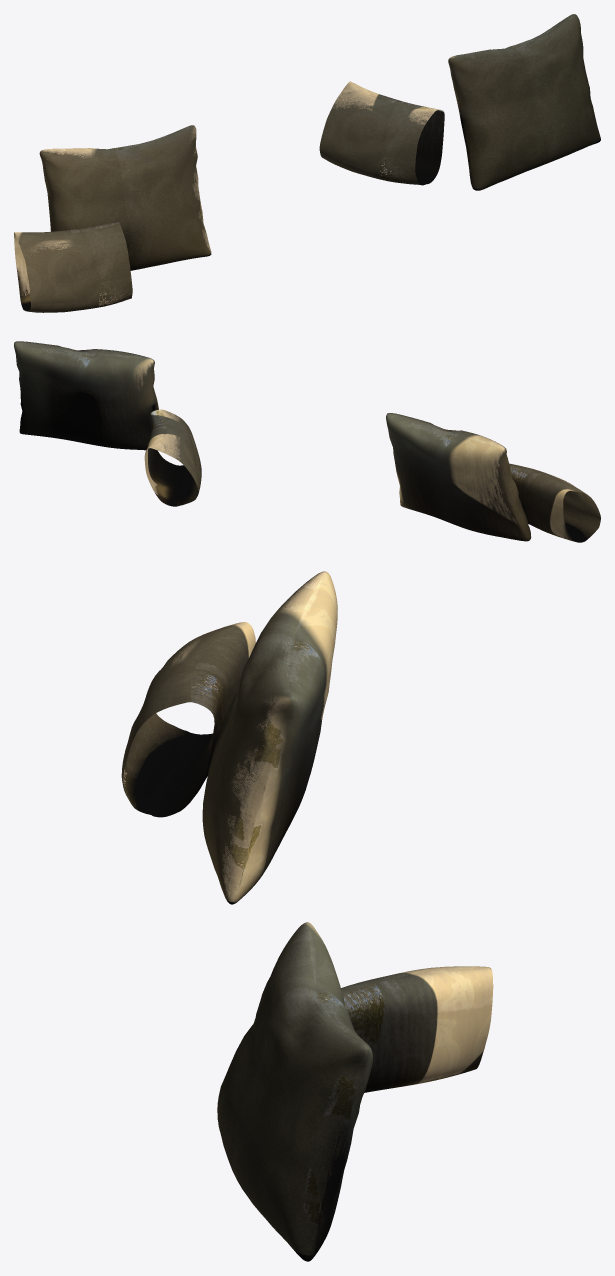
Rendered from pillows.002_tokyo_bed_cushion.002.glb.
3 renders of one model, top to bottom at view 1: azimuth 30°, elevation 25°; view 2: azimuth 150°, elevation 25°; view 3: azimuth 270°, elevation 25°, orthographic. The views are drawn at different scales.
Visible parts, largest first — view 1: pillows.002_tokyo_bed_cushion.002; view 2: pillows.002_tokyo_bed_cushion.002; view 3: pillows.002_tokyo_bed_cushion.002.
Part boxes in pixels (bbox=[...]): pillows.002_tokyo_bed_cushion.002: bbox=[14, 14, 600, 312]; pillows.002_tokyo_bed_cushion.002: bbox=[14, 341, 600, 542]; pillows.002_tokyo_bed_cushion.002: bbox=[121, 571, 493, 1261].
Bounding box in the file's own units: 1.73 × 0.3305 × 0.5149.
Materials: 1 (1 with a texture image).
